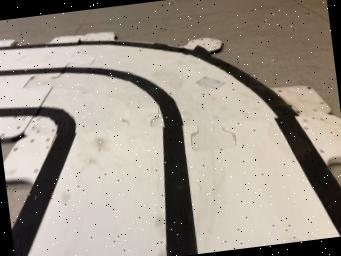street: (0, 40, 341, 256), (0, 40, 341, 256), (0, 40, 341, 256), (0, 40, 341, 256), (0, 40, 341, 256), (0, 40, 341, 256)
